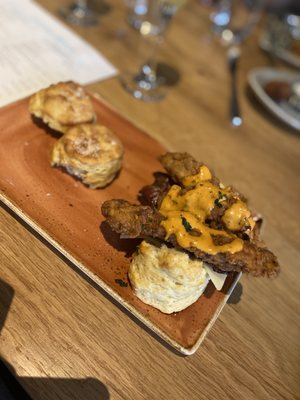curry: (0, 3, 300, 392)
sandwich: (108, 0, 187, 103), (203, 0, 263, 129)
